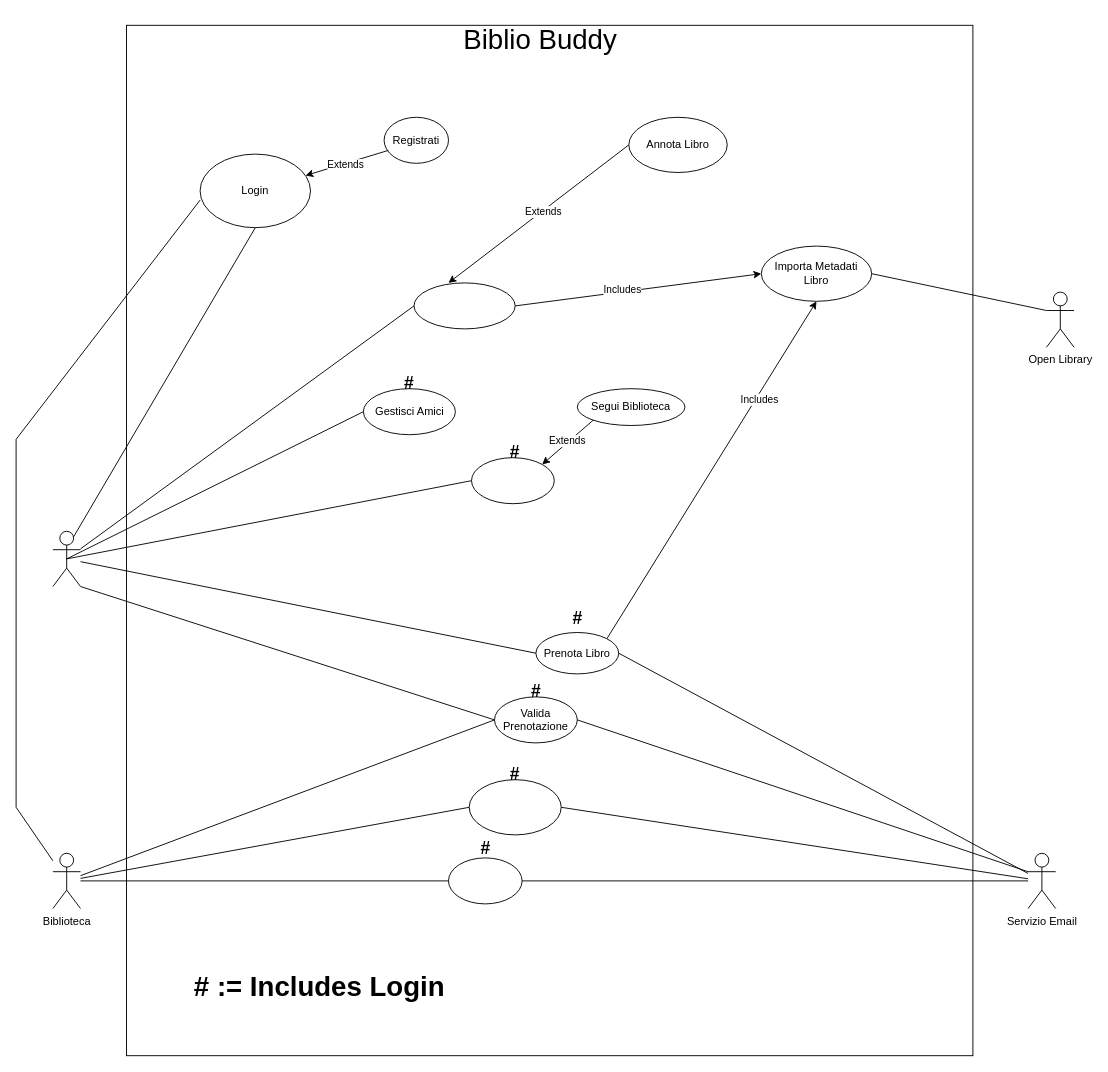
Some shapes in this 1108 by 1072 pixel diagram are drawn without their labels. Each missing label, with the centre of its shape:
Accetta Prenotazione: pixel 514 807
Gestisci Feed Personale: pixel 512 480
Gestisci Libreria Personale: pixel 464 305
Lettore: pixel 66 558
Pubblica Post: pixel 485 880
